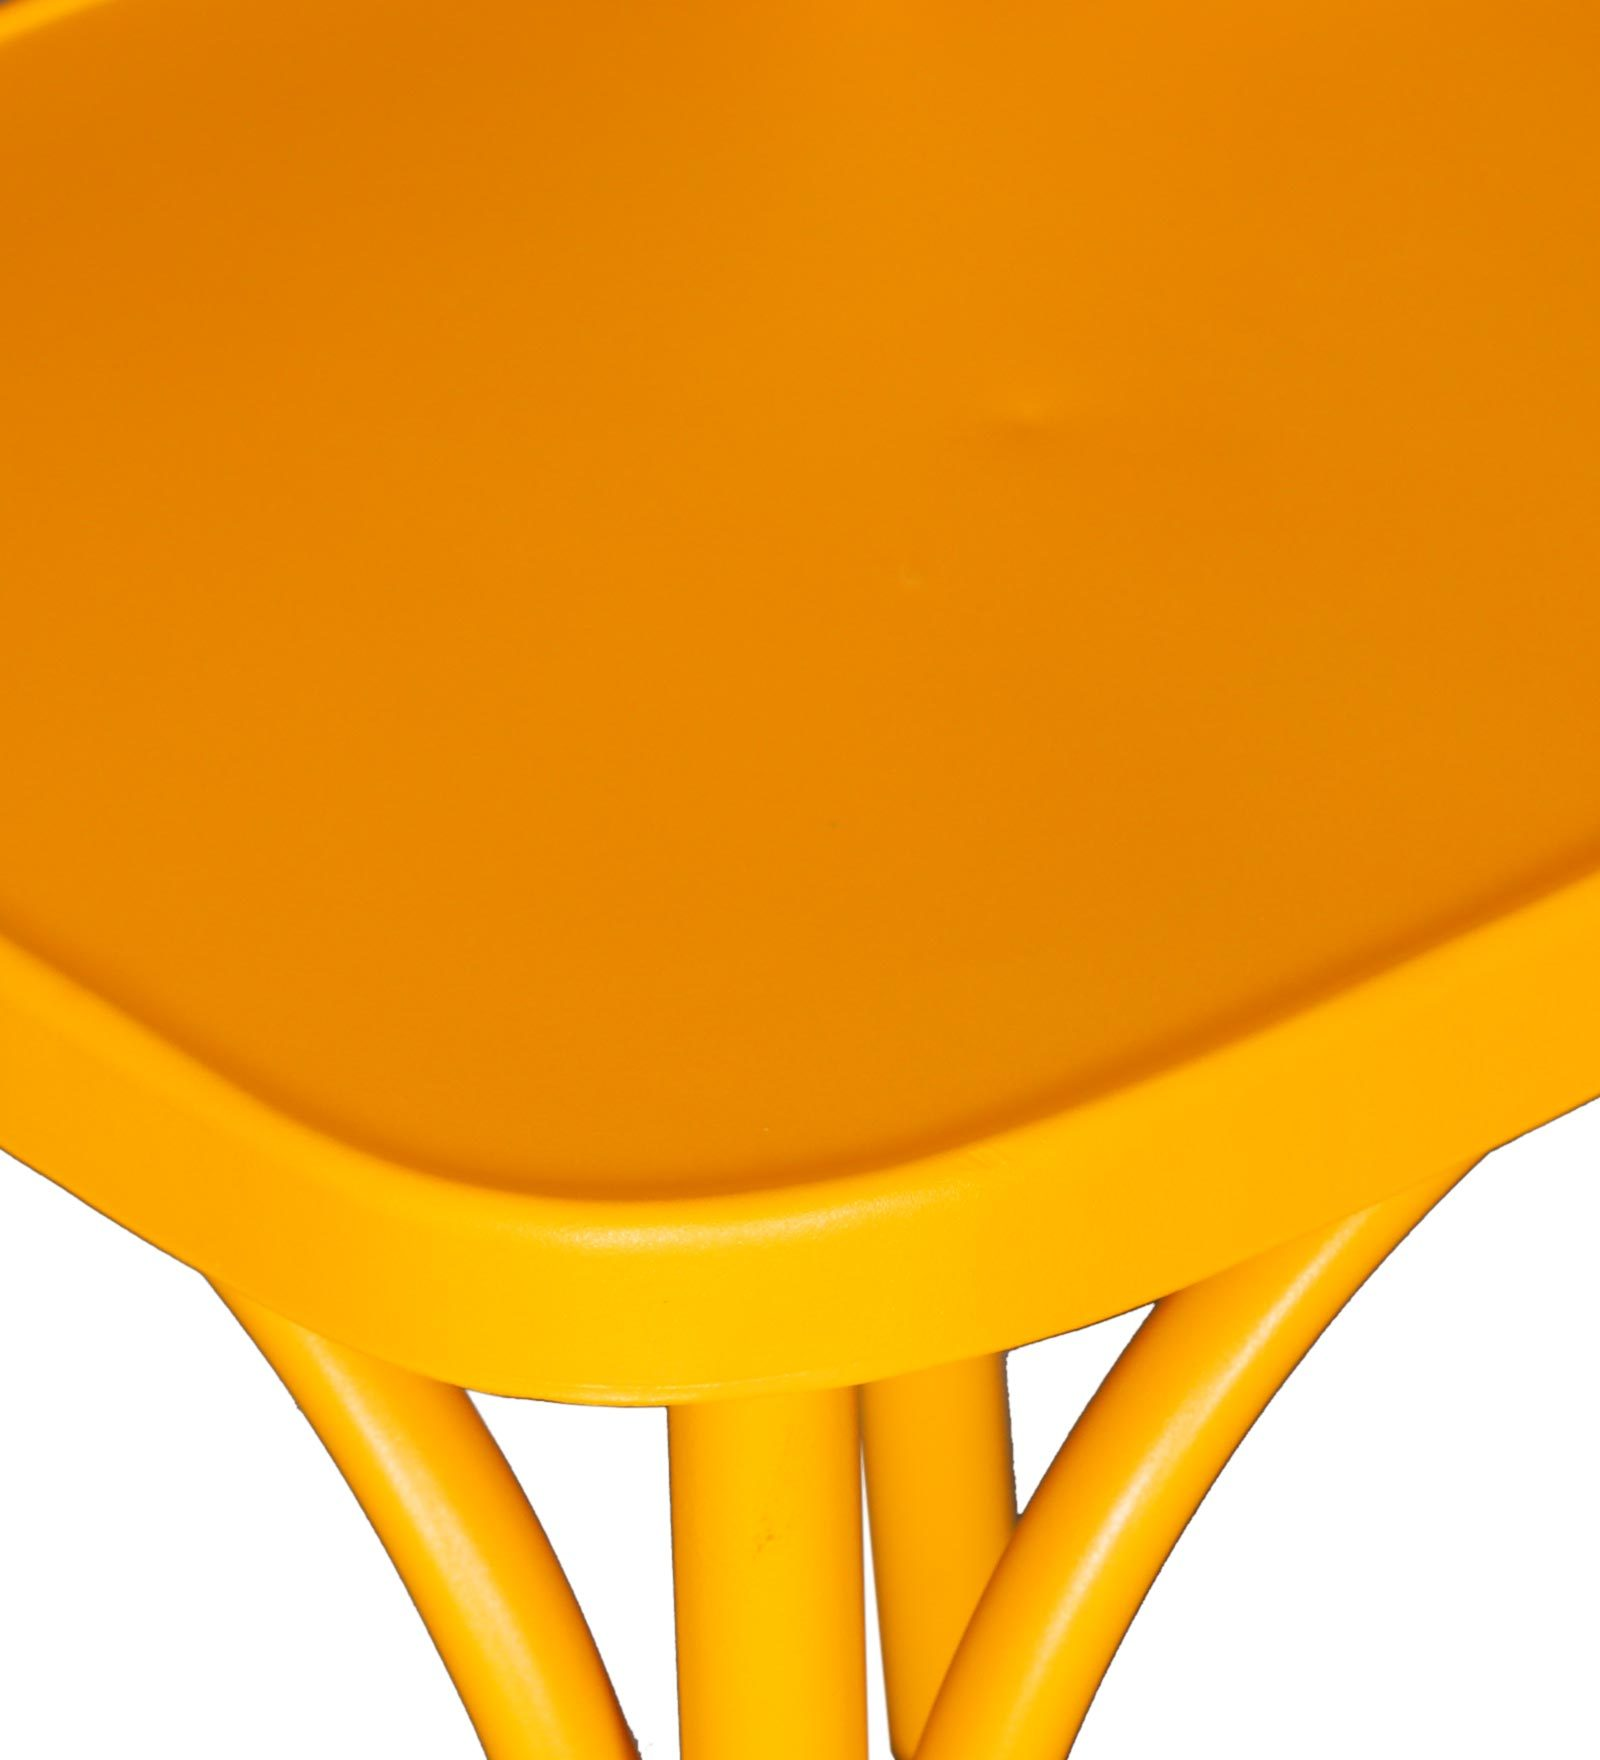Fabian Metal Chair in Yellow Color by Bohemiana: (5, 9, 1563, 1760)
